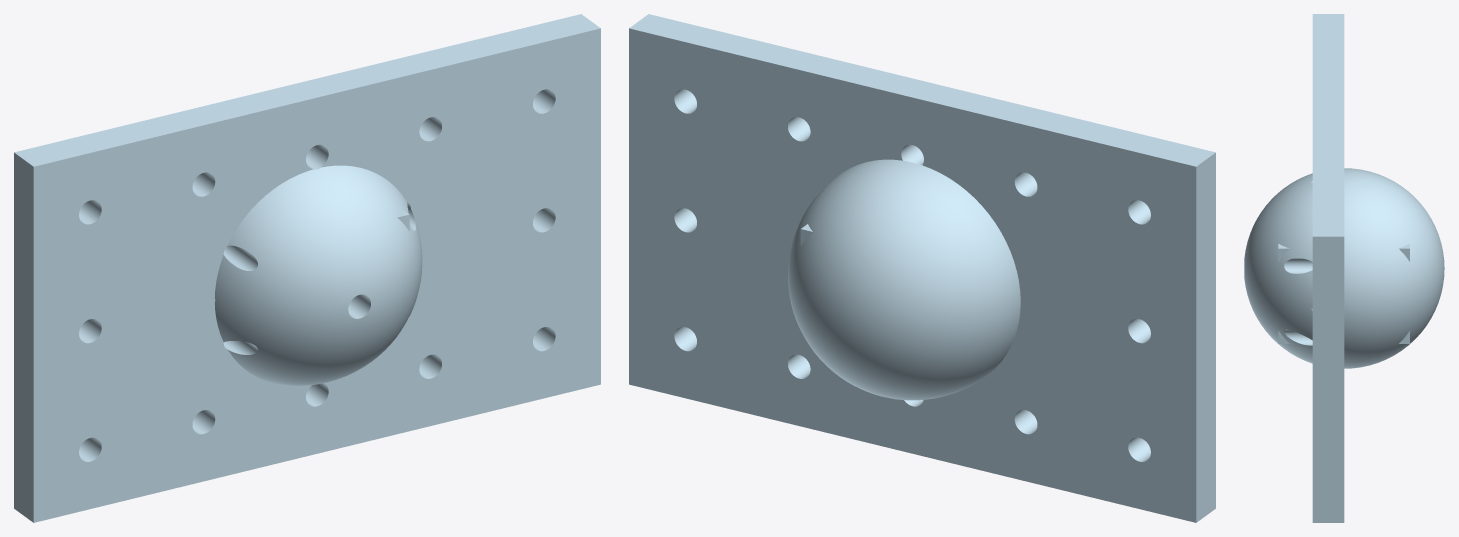
3 views of the same model, side by side, from view 1: azimuth 30°, elevation 25°; view 2: azimuth 150°, elevation 25°; view 3: azimuth 270°, elevation 25° (orthographic). The views are drawn at different scales.
Visible parts, largest first — view 1: Part 1; view 2: Part 1; view 3: Part 1.
Boxes of the visible parts, <box> form: Part 1: <box>14,14,600,522</box>; Part 1: <box>629,14,1215,522</box>; Part 1: <box>1244,14,1444,522</box>.
Size of the model in its own units: 0.2 by 0.12 by 0.076.
